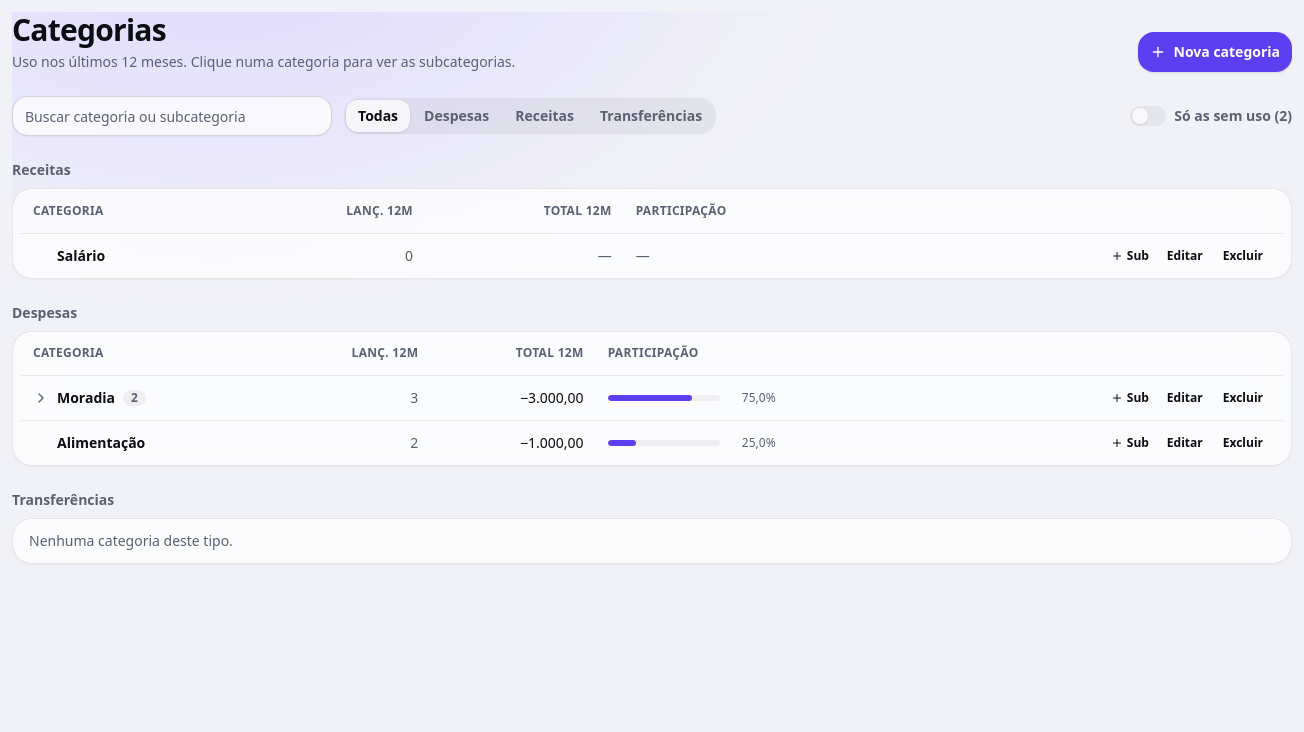
Test case: CategoriesPage › shows the subcategories when a main category is opened
Expected: the text "Moradia" is shown, [57,388,115,408]
Expected: the text "Aluguel" is not shown
What coordinates should you click on to do the following:
click the button "Moradia 2"
I would click on:
 (89, 398)
Its box is [33,388,146,408].
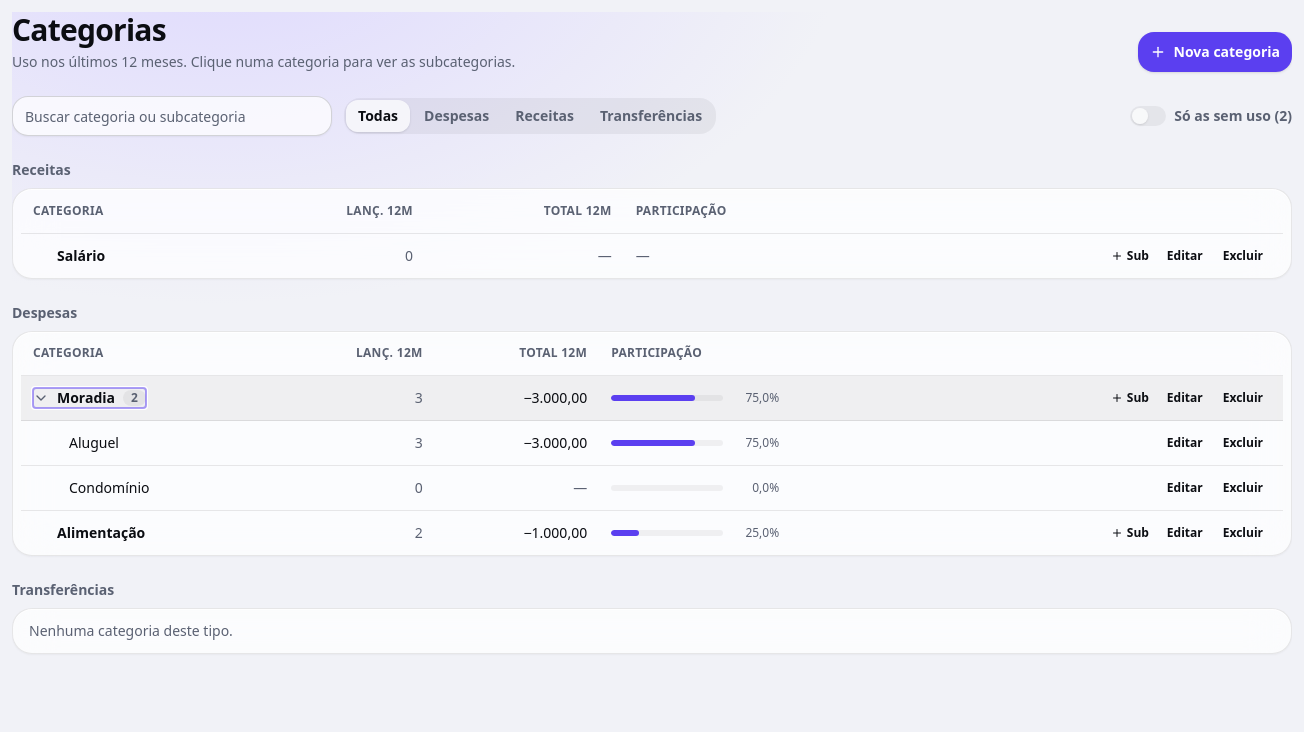
Now the text "Aluguel" is shown, box [69,433,119,452]
Now the button "Moradia 2" is expanded, box [33,388,146,408]
